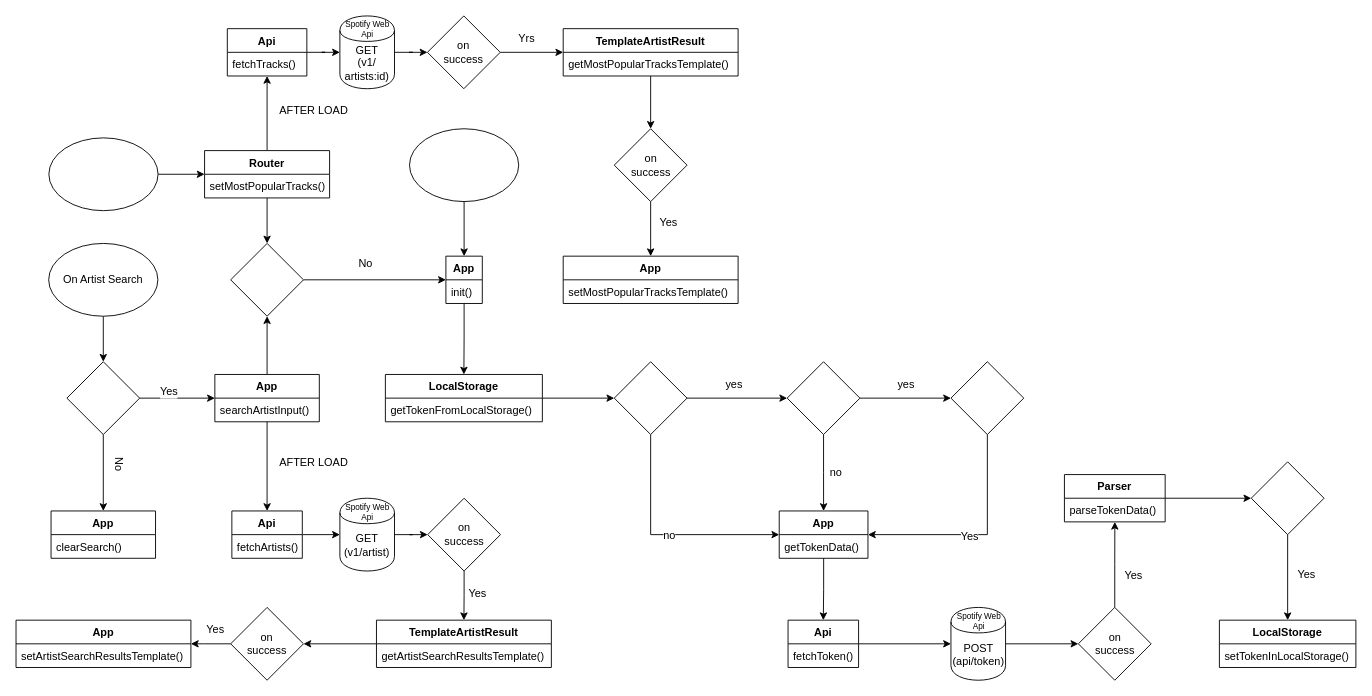
The diagram is 1372 pixels wide and 696 high, and some of its shapes have lost their labels. Here are the shapes that lost their labels. From the top down, the centre of each, then its label:
At [103,174]: "On Artist Select".
At [464,165]: "Load Page".
At [266,279]: "Token Loaded".
At [103,398]: "Empty Input".
At [650,398]: "local storage available".
At [823,398]: "stored in local storage".
At [987,398]: "is expired".
At [1287,498]: "Token Data Complete".
